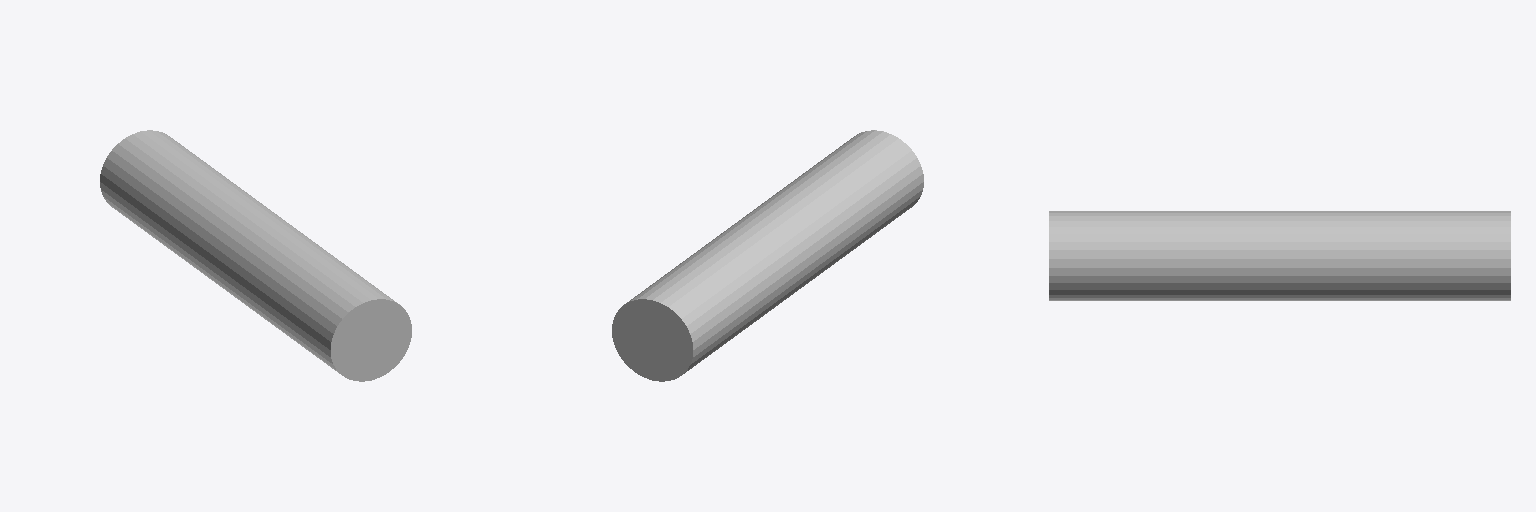
The model's file is arm.obj.
3 renders of one model, left to right at view 1: azimuth 30°, elevation 25°; view 2: azimuth 150°, elevation 25°; view 3: azimuth 270°, elevation 25°, orthographic.
Visible parts, largest first — view 1: Cylinder; view 2: Cylinder; view 3: Cylinder.
Boxes of the visible parts, x1,y1,x2,y2 form: Cylinder: [100, 130, 411, 381]; Cylinder: [612, 130, 923, 381]; Cylinder: [1049, 211, 1510, 300].
Bounding box in the file's own units: 1.22 × 1.14 × 5.97.